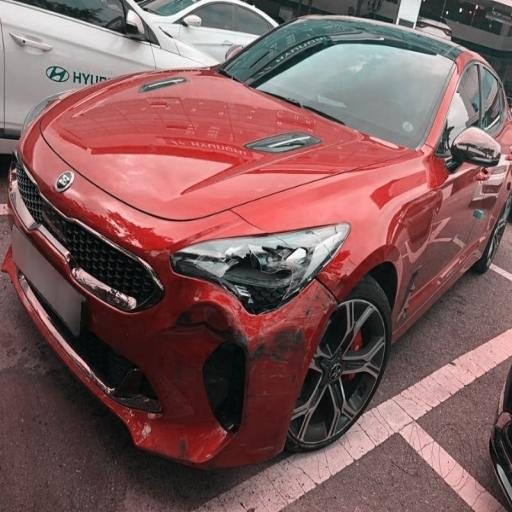broken: (84, 206, 280, 486), (382, 226, 427, 318)
scratch: (243, 285, 310, 397)
